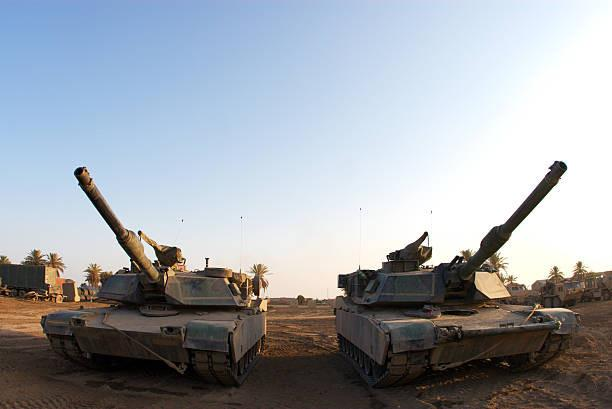tank: (335, 161, 577, 388), (39, 167, 267, 387)
